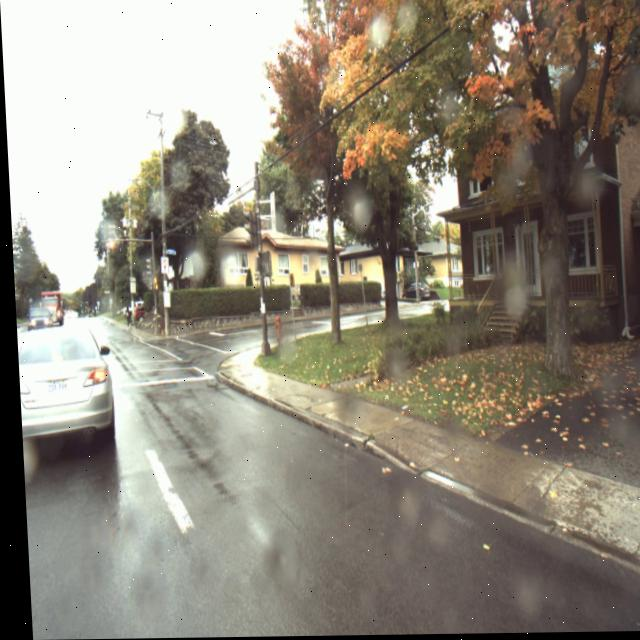trafficLight-Yellow: (149, 269, 158, 297)
